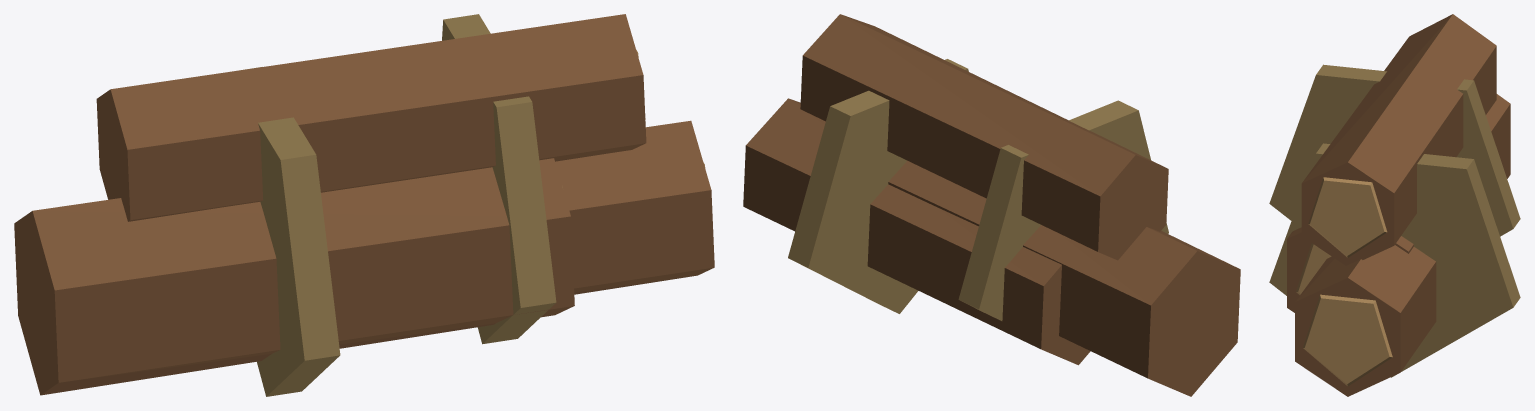
Rendered from Timber.glb.
3 renders of one model, left to right at view 1: azimuth 30°, elevation 25°; view 2: azimuth 150°, elevation 25°; view 3: azimuth 270°, elevation 25°, orthographic. The views are drawn at different scales.
Parts seen in each view (by area): view 1: BoundBillets; view 2: BoundBillets; view 3: BoundBillets.
Boxes of the visible parts, x1,y1,x2,y2 form: BoundBillets: (14, 14, 714, 396); BoundBillets: (743, 14, 1240, 396); BoundBillets: (1269, 14, 1520, 396).
Bounding box in the file's own units: 0.4466 × 0.2238 × 0.2079.
